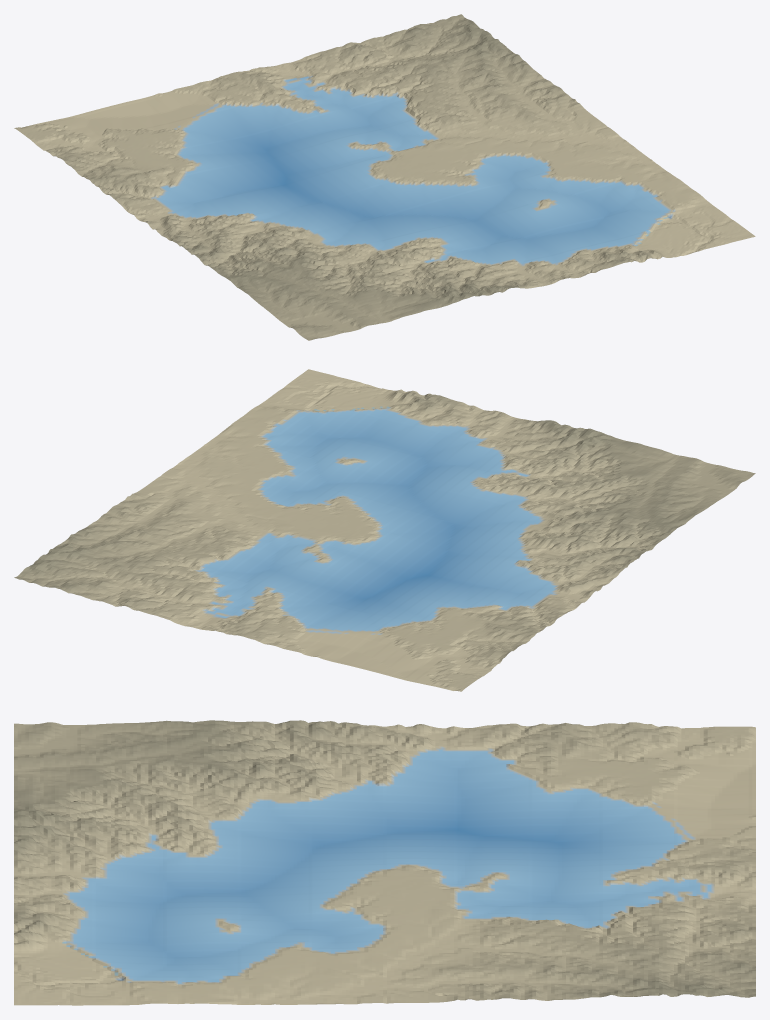
File: lake_livingston_tx.glb
3 renders of one model, top to bottom at view 1: azimuth 30°, elevation 25°; view 2: azimuth 150°, elevation 25°; view 3: azimuth 270°, elevation 25°, orthographic. The views are drawn at different scales.
Visible parts, largest first — view 1: terrain, water; view 2: terrain, water; view 3: terrain, water.
Part boxes in pixels (box(x1,y1,x2,y2)): terrain: box(14, 14, 755, 340); water: box(157, 77, 669, 263); terrain: box(14, 369, 755, 691); water: box(202, 406, 555, 630); terrain: box(14, 720, 755, 1005); water: box(62, 749, 711, 983).
Bounding box in the file's own units: 22672 × 740 × 25830.
